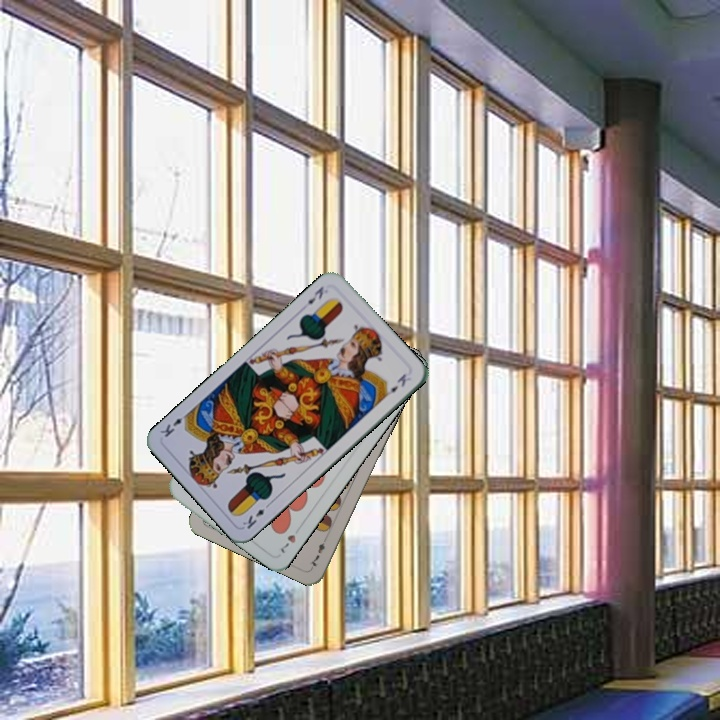E7: (306, 532, 330, 570)
EK: (238, 498, 273, 532), (303, 282, 326, 307)
H7: (276, 530, 298, 556)
